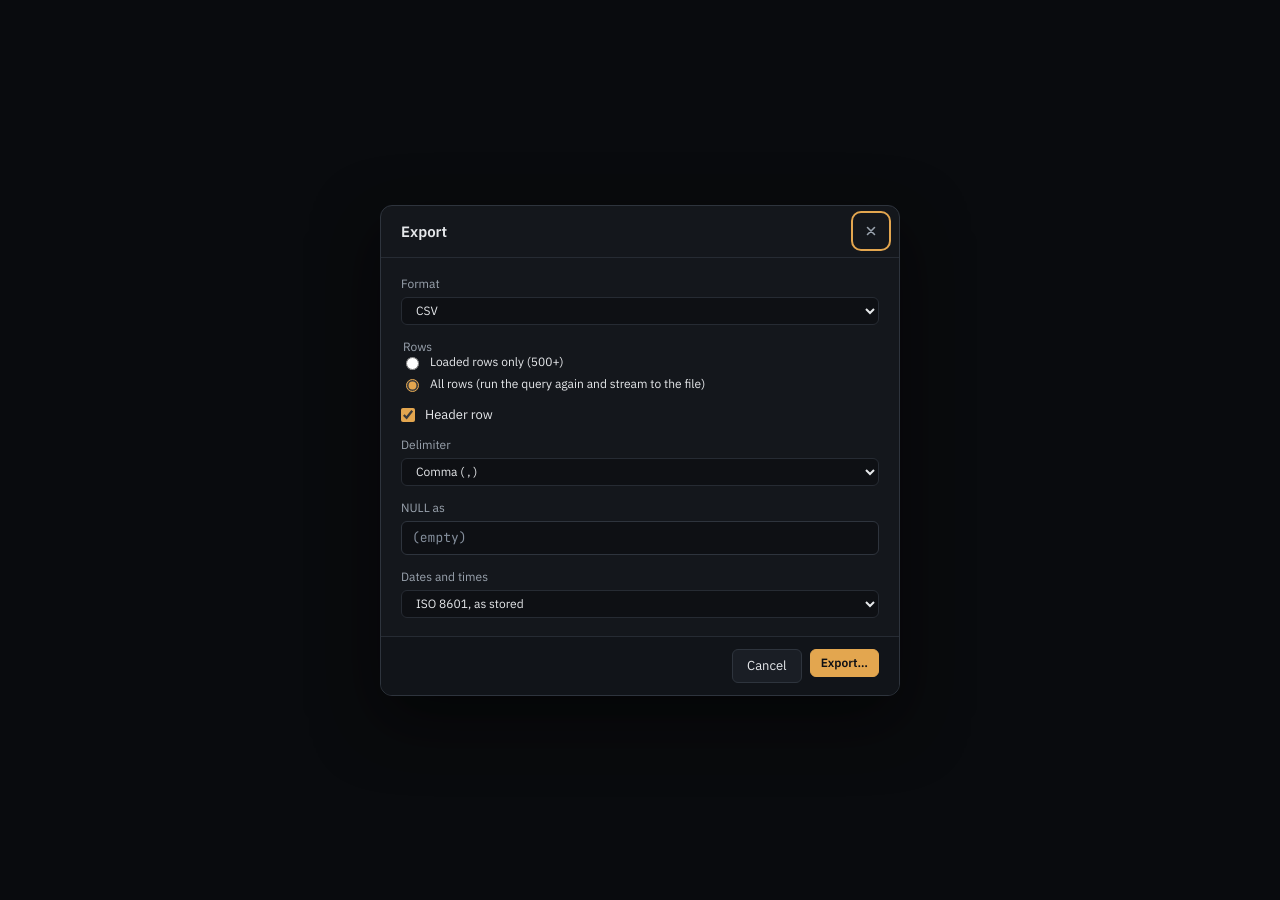
Scenario: ExportDialog › exports the loaded rows without re-running the query
Step 1. Click the radio button labelled "Loaded rows only (500+)" → (412,363), box [406,356,419,370]
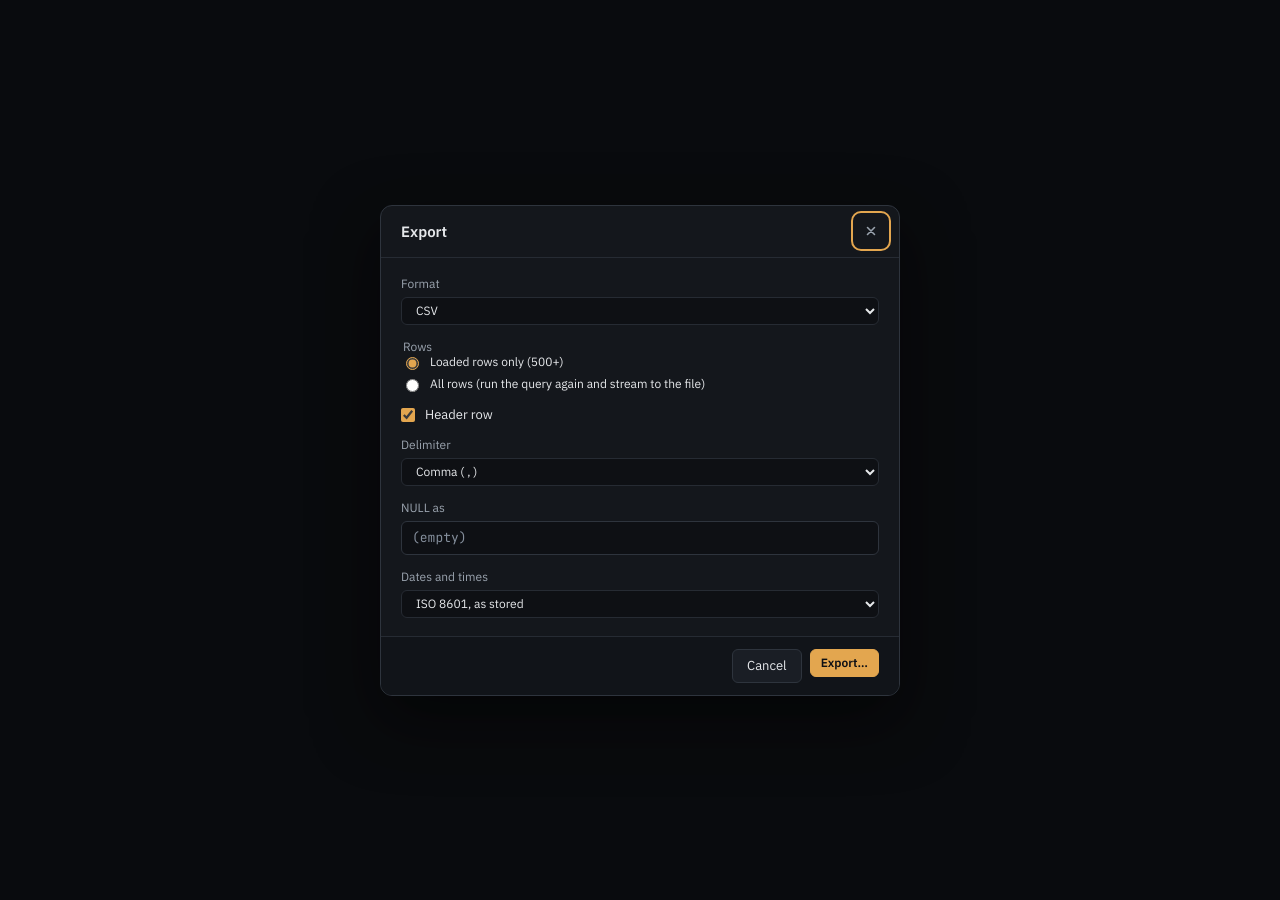
Step 2. Click the button "Export…" → (844,662), box [810,648,879,676]
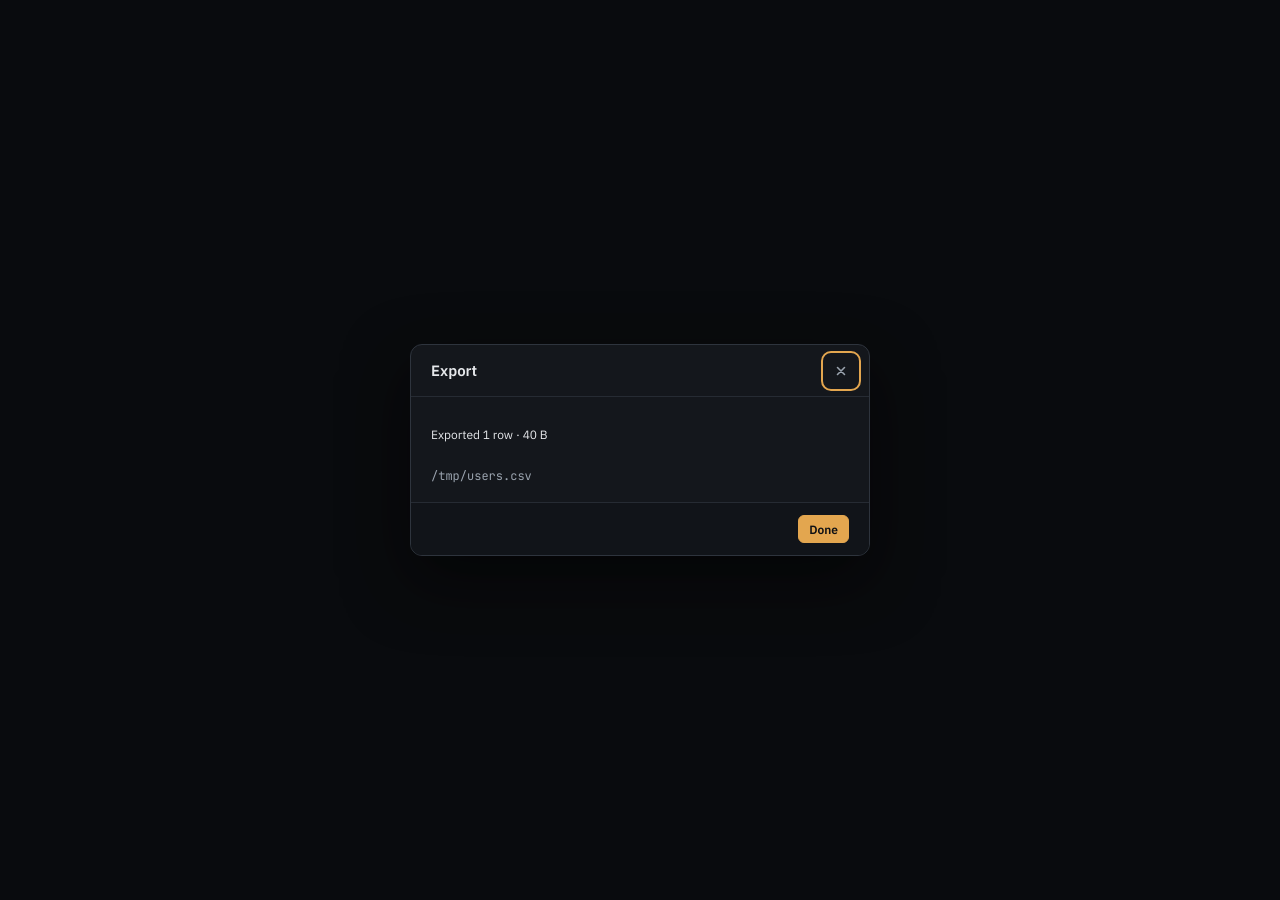
Now the text "Exported 1 row · 40 B" is shown, box [431,427,548,442]
